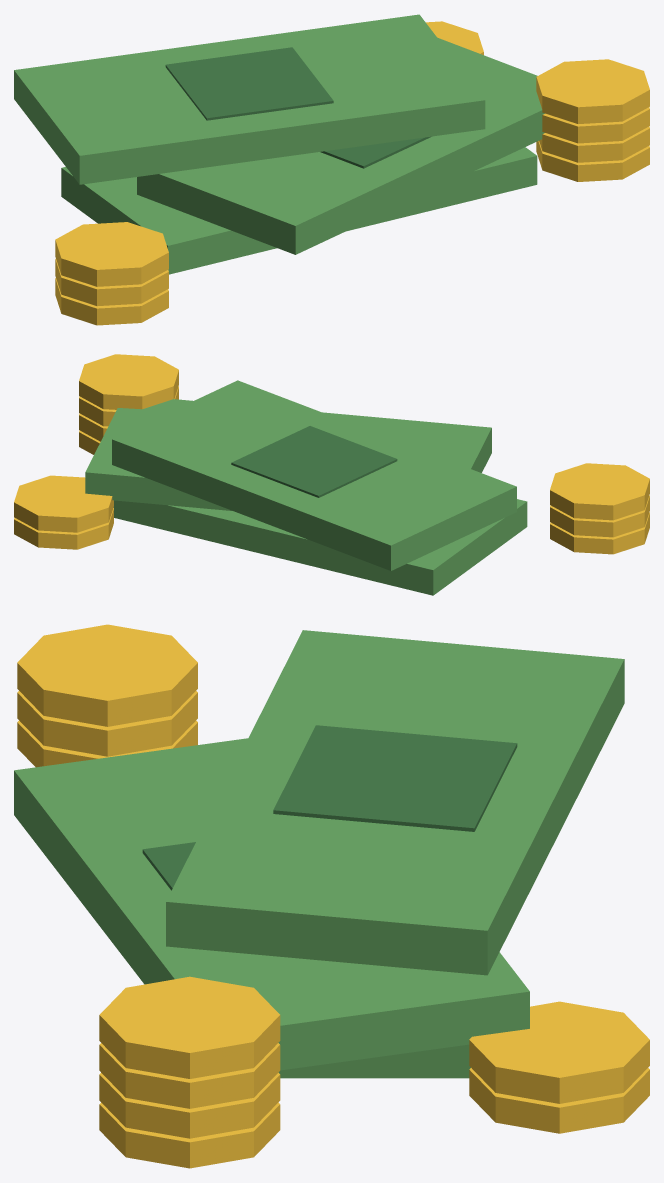
Rendered from money_pile.obj.
3 views of the same model, one above another, from view 1: azimuth 30°, elevation 25°; view 2: azimuth 150°, elevation 25°; view 3: azimuth 270°, elevation 25° (orthographic). The views are drawn at different scales.
Parts seen in each view (by area): view 1: money_pile; view 2: money_pile; view 3: money_pile.
Boxes of the visible parts, box(x1,y1,x2,y2) form: money_pile: box(14, 14, 649, 325); money_pile: box(14, 354, 649, 595); money_pile: box(14, 624, 649, 1168).
Bounding box in the file's own units: 0.264 × 0.039 × 0.1548.
